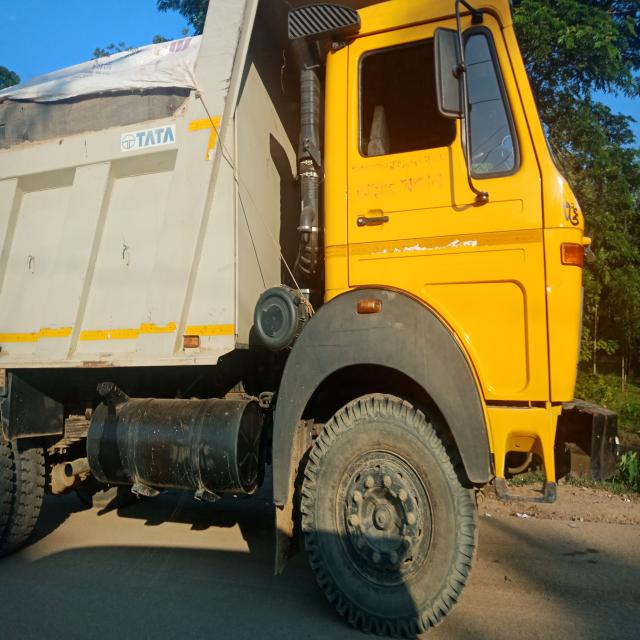truck: (0, 0, 595, 640)
